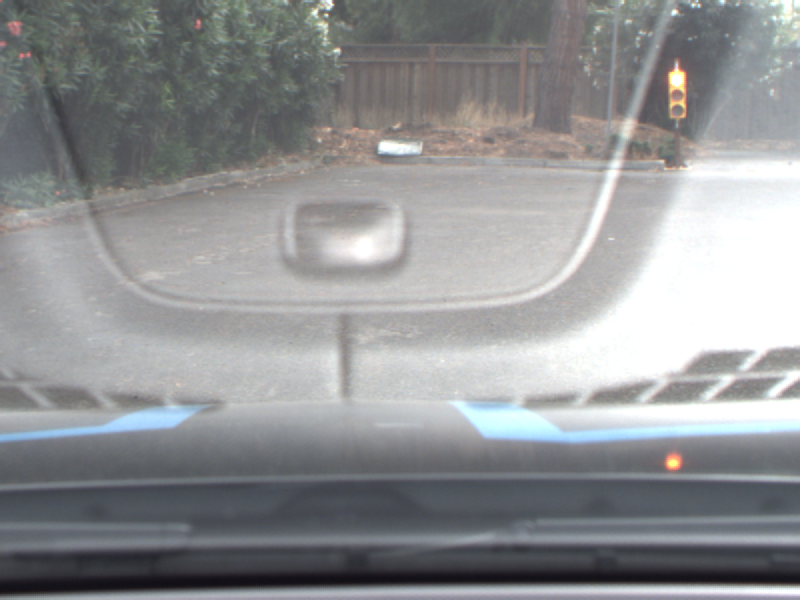red: (667, 69, 688, 120)
